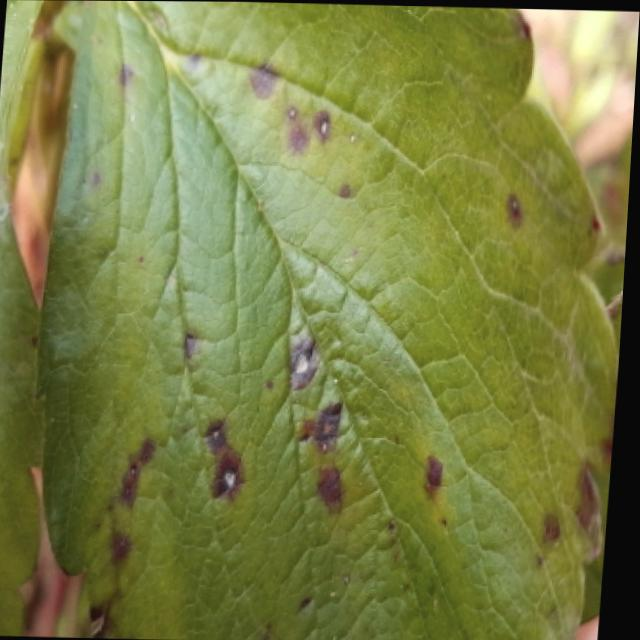Leaf Spot: (37, 0, 624, 640), (0, 135, 47, 636)
